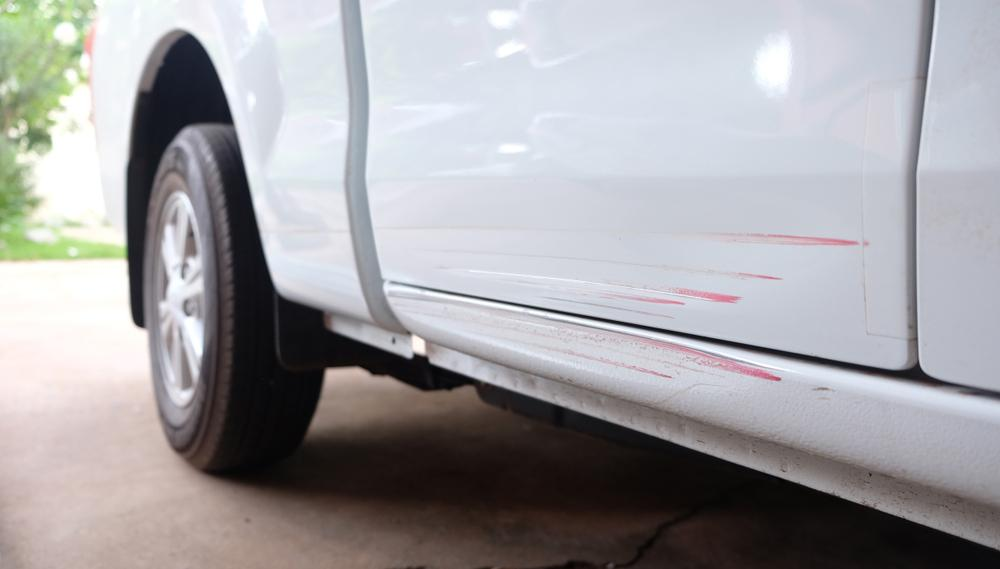scratch: (430, 211, 867, 324), (397, 292, 792, 384)
